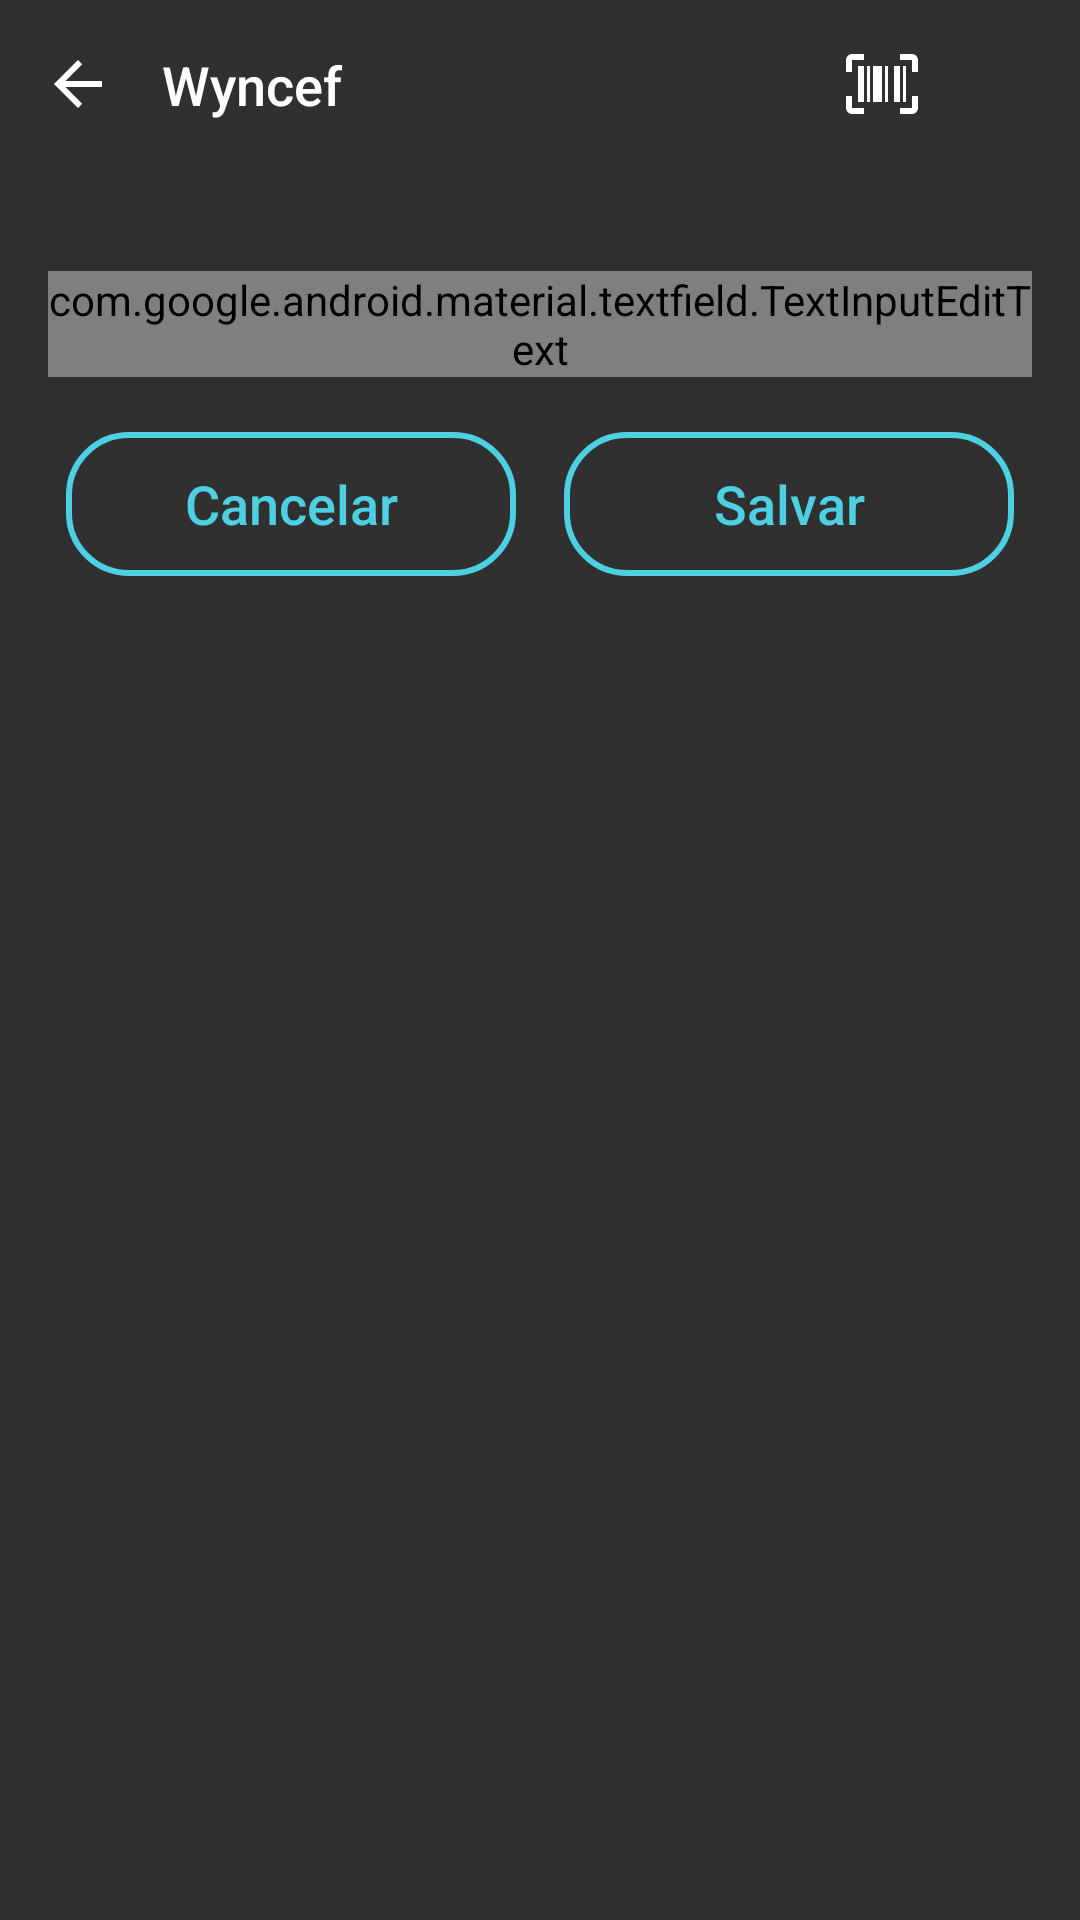

Point at icon controls on the screen. Image size 1080px x 1920px, points as point (x, y).
Escanear: point (882, 84)
